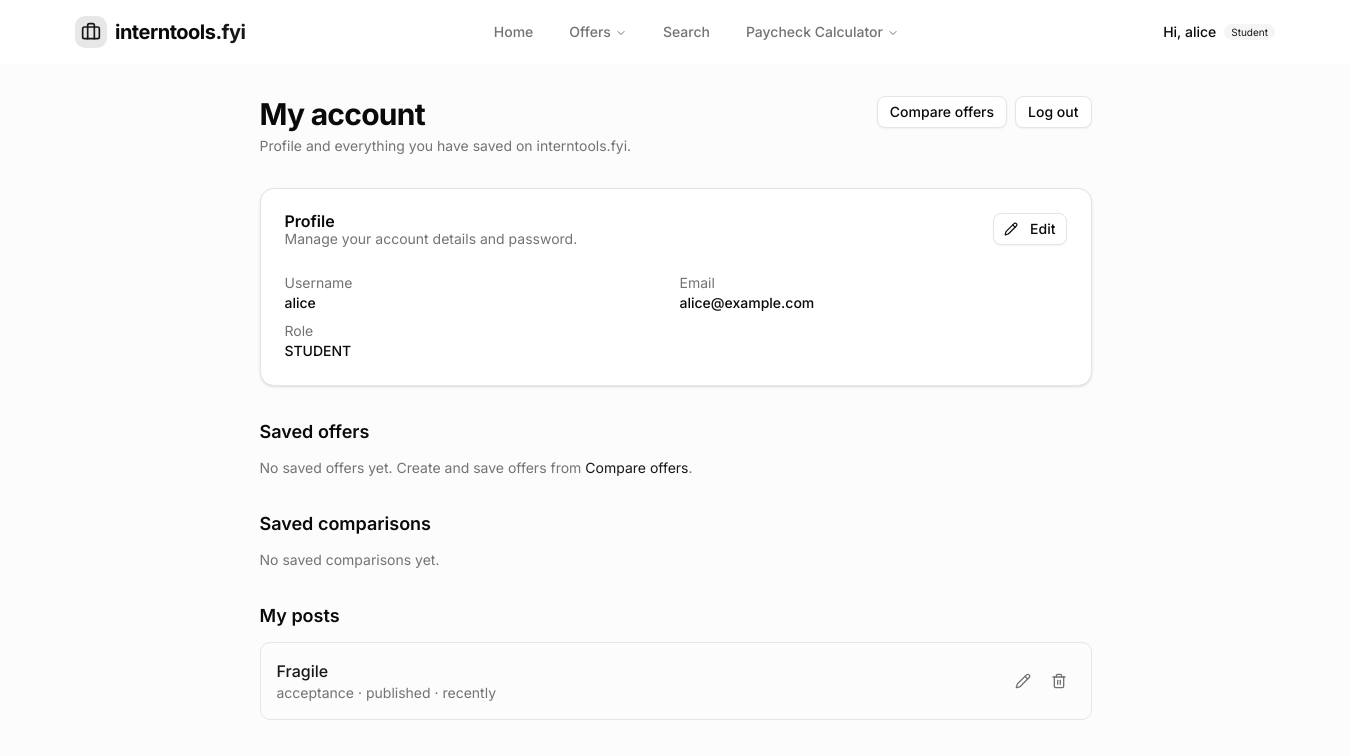
Test: /me page › shows an error when deleting a post fails
Expected: the link "Fragile" is shown, [276, 661, 328, 681]
Click the 6th button at (1058, 681), box [1042, 665, 1074, 697]
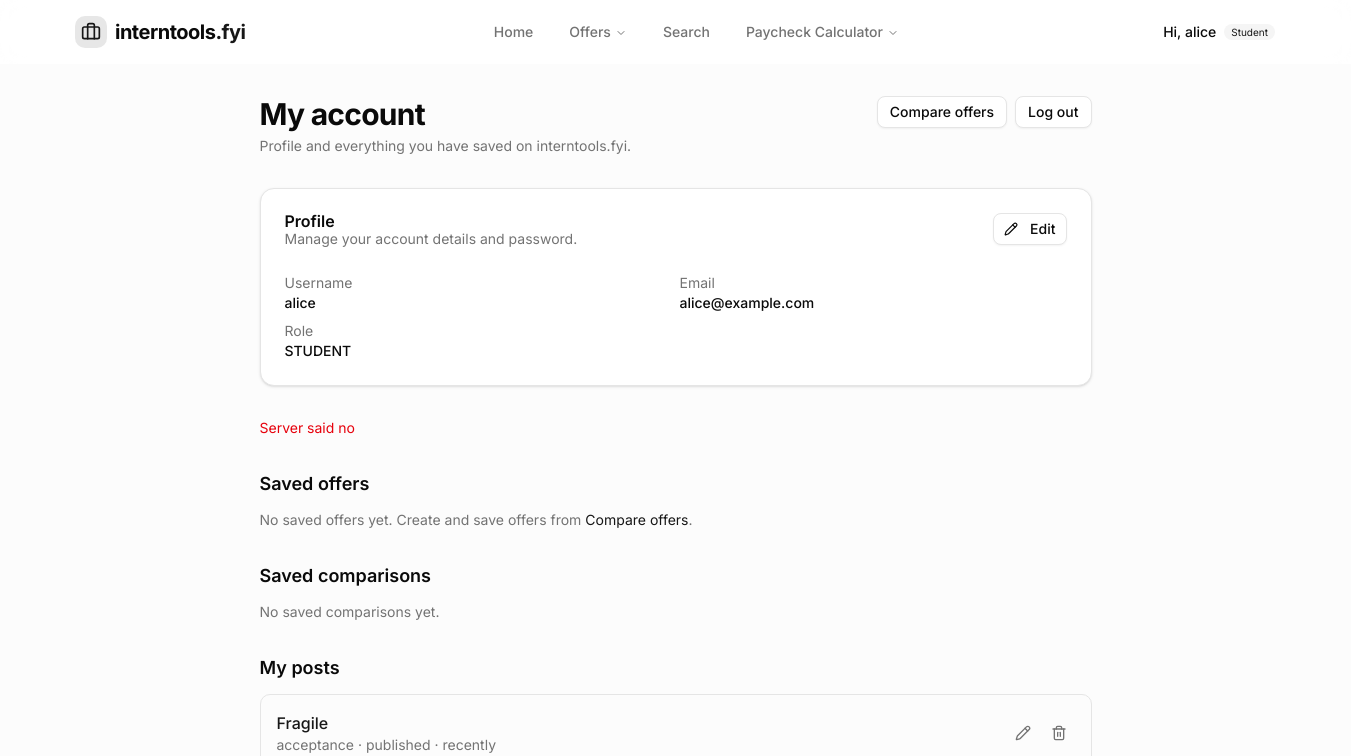
Expected: the message reads "Server said no", [260, 419, 355, 436]
